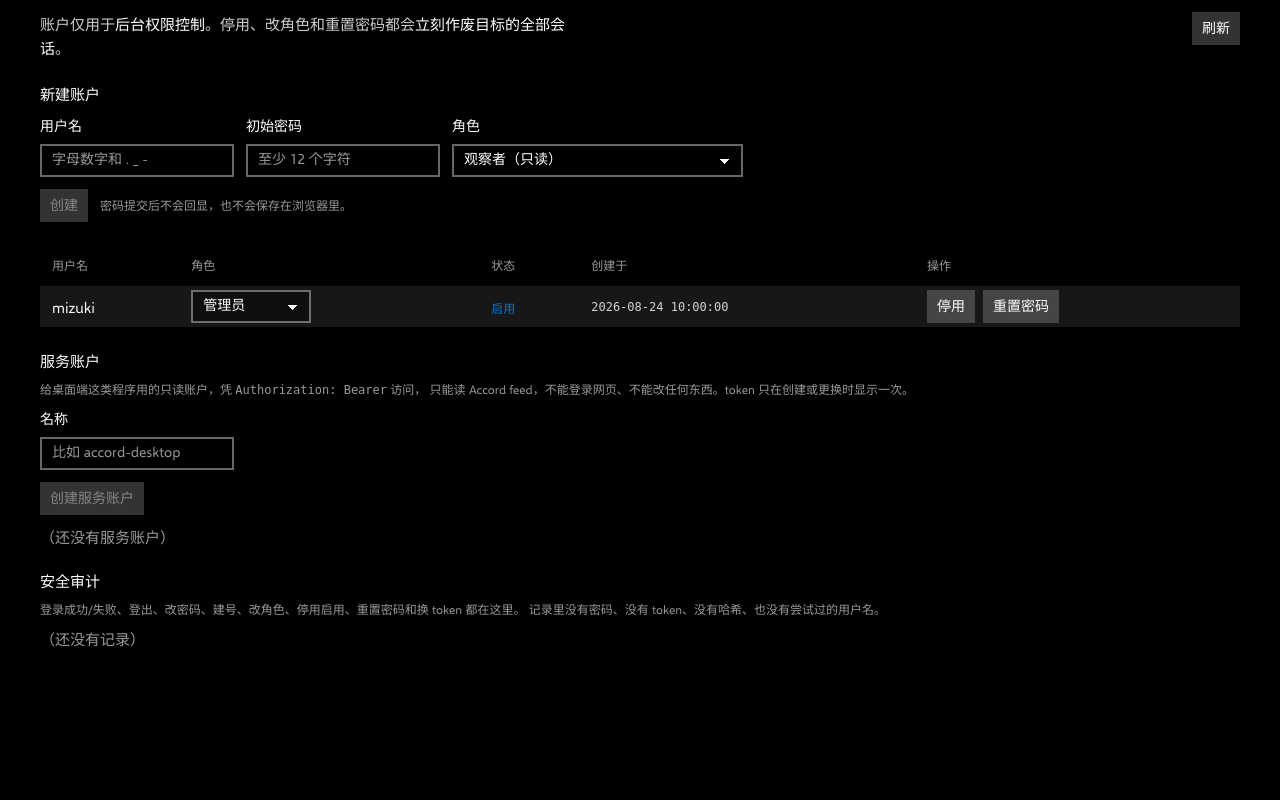
it: 用户管理 › 最后一个管理员那条 409 照服务端的话说
The image size is (1280, 800).
Click the button "停用" at {"x": 951, "y": 306}, box x1=927 y1=290 x2=975 y2=323
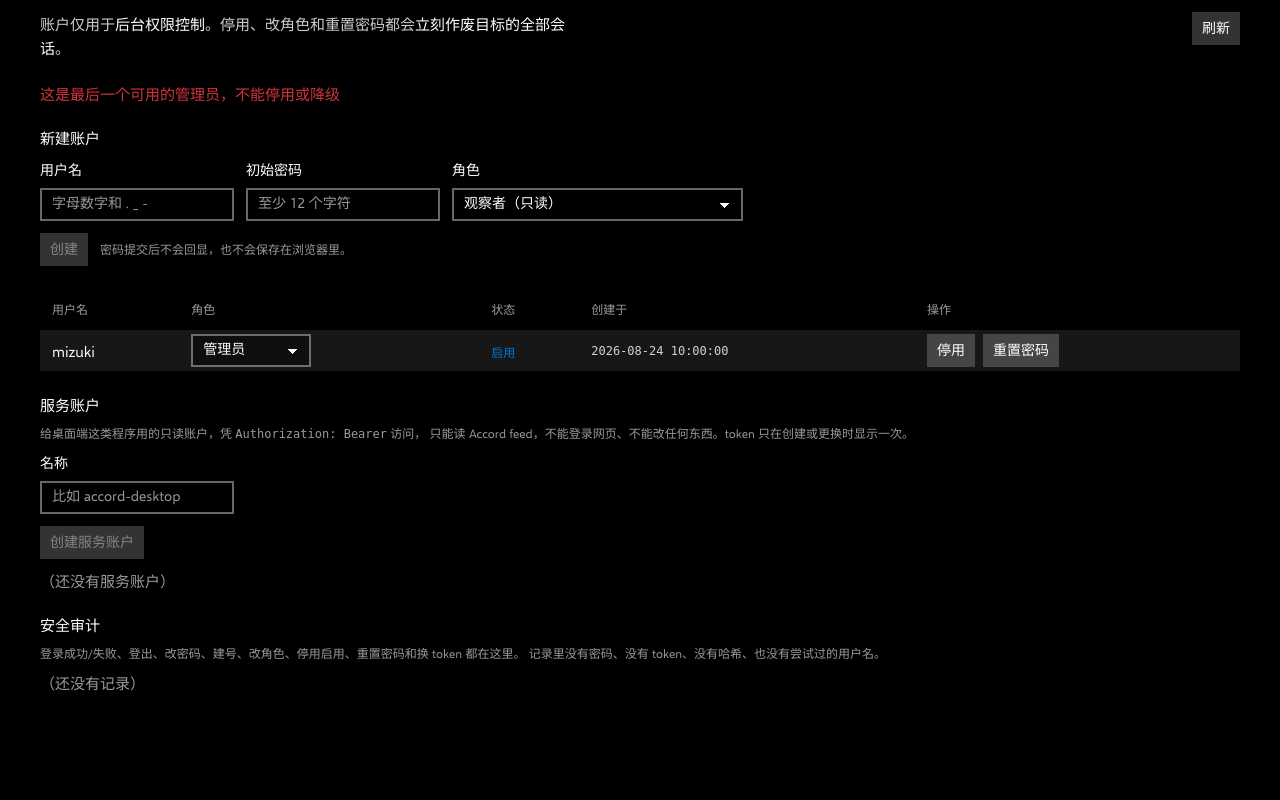
Result: the text "这是最后一个可用的管理员，不能停用或降级" is shown at x1=40 y1=85 x2=340 y2=103
